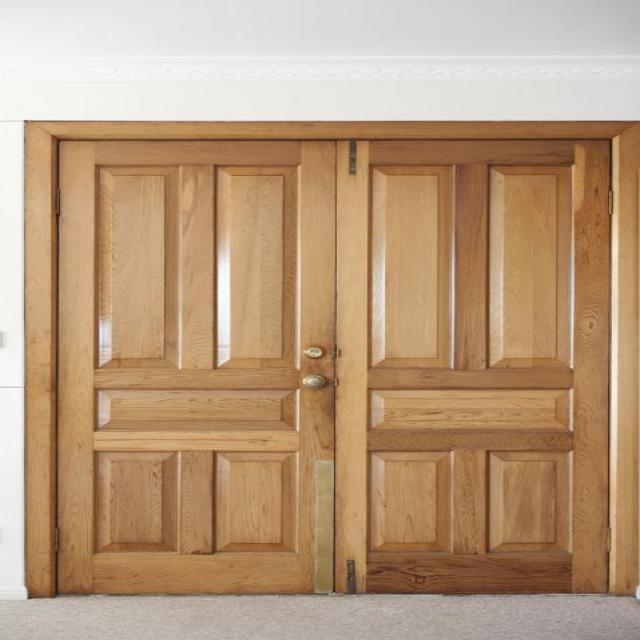door-knob: (303, 376, 325, 389)
